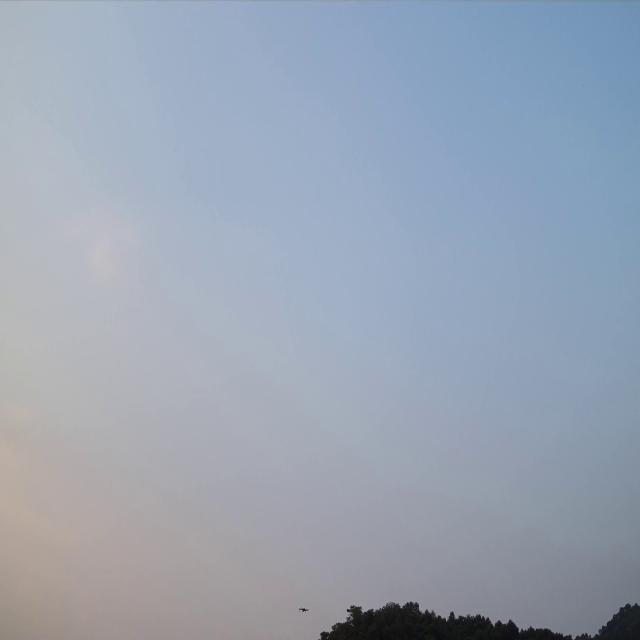UAV: (298, 604, 310, 612)
